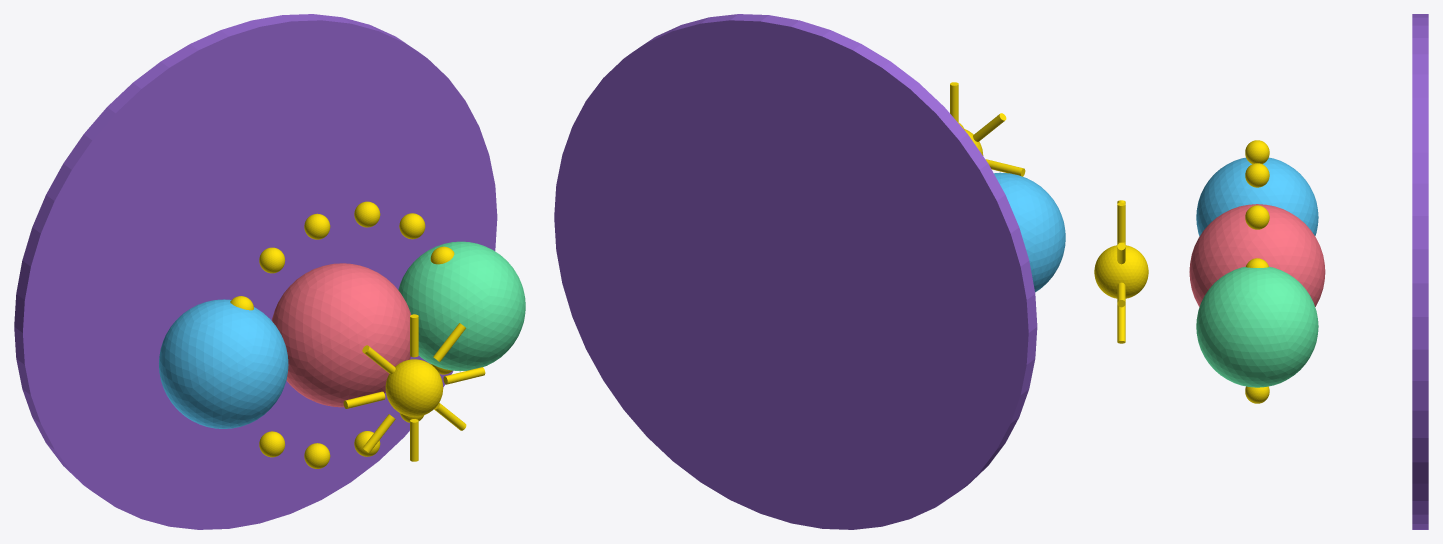
Rendered from modelo.glb.
3 renders of one model, left to right at view 1: azimuth 30°, elevation 25°; view 2: azimuth 150°, elevation 25°; view 3: azimuth 270°, elevation 25°, orthographic. The views are drawn at different scales.
Parts seen in each view (by area): view 1: base, atomo_B, atomo_A, atomo_C, pico_energia; view 2: base, atomo_A; view 3: atomo_C, base, atomo_B, atomo_A, pico_energia, energia_2, energia_3, energia_4.
Boxes of the visible parts, <box> form: base: <box>14,14,497,529</box>; atomo_B: <box>272,263,410,407</box>; atomo_A: <box>159,299,288,428</box>; atomo_C: <box>398,241,525,371</box>; pico_energia: <box>385,359,443,416</box>; base: <box>554,14,1037,529</box>; atomo_A: <box>994,172,1065,292</box>; atomo_C: <box>1196,266,1318,387</box>; base: <box>1412,14,1428,529</box>; atomo_B: <box>1189,204,1325,306</box>; atomo_A: <box>1196,157,1318,236</box>; pico_energia: <box>1094,245,1148,298</box>; energia_2: <box>1245,205,1269,229</box>; energia_3: <box>1245,163,1269,187</box>; energia_4: <box>1245,140,1269,163</box>.
Bounding box in the file's own units: 0.38 × 0.38 × 0.246.
